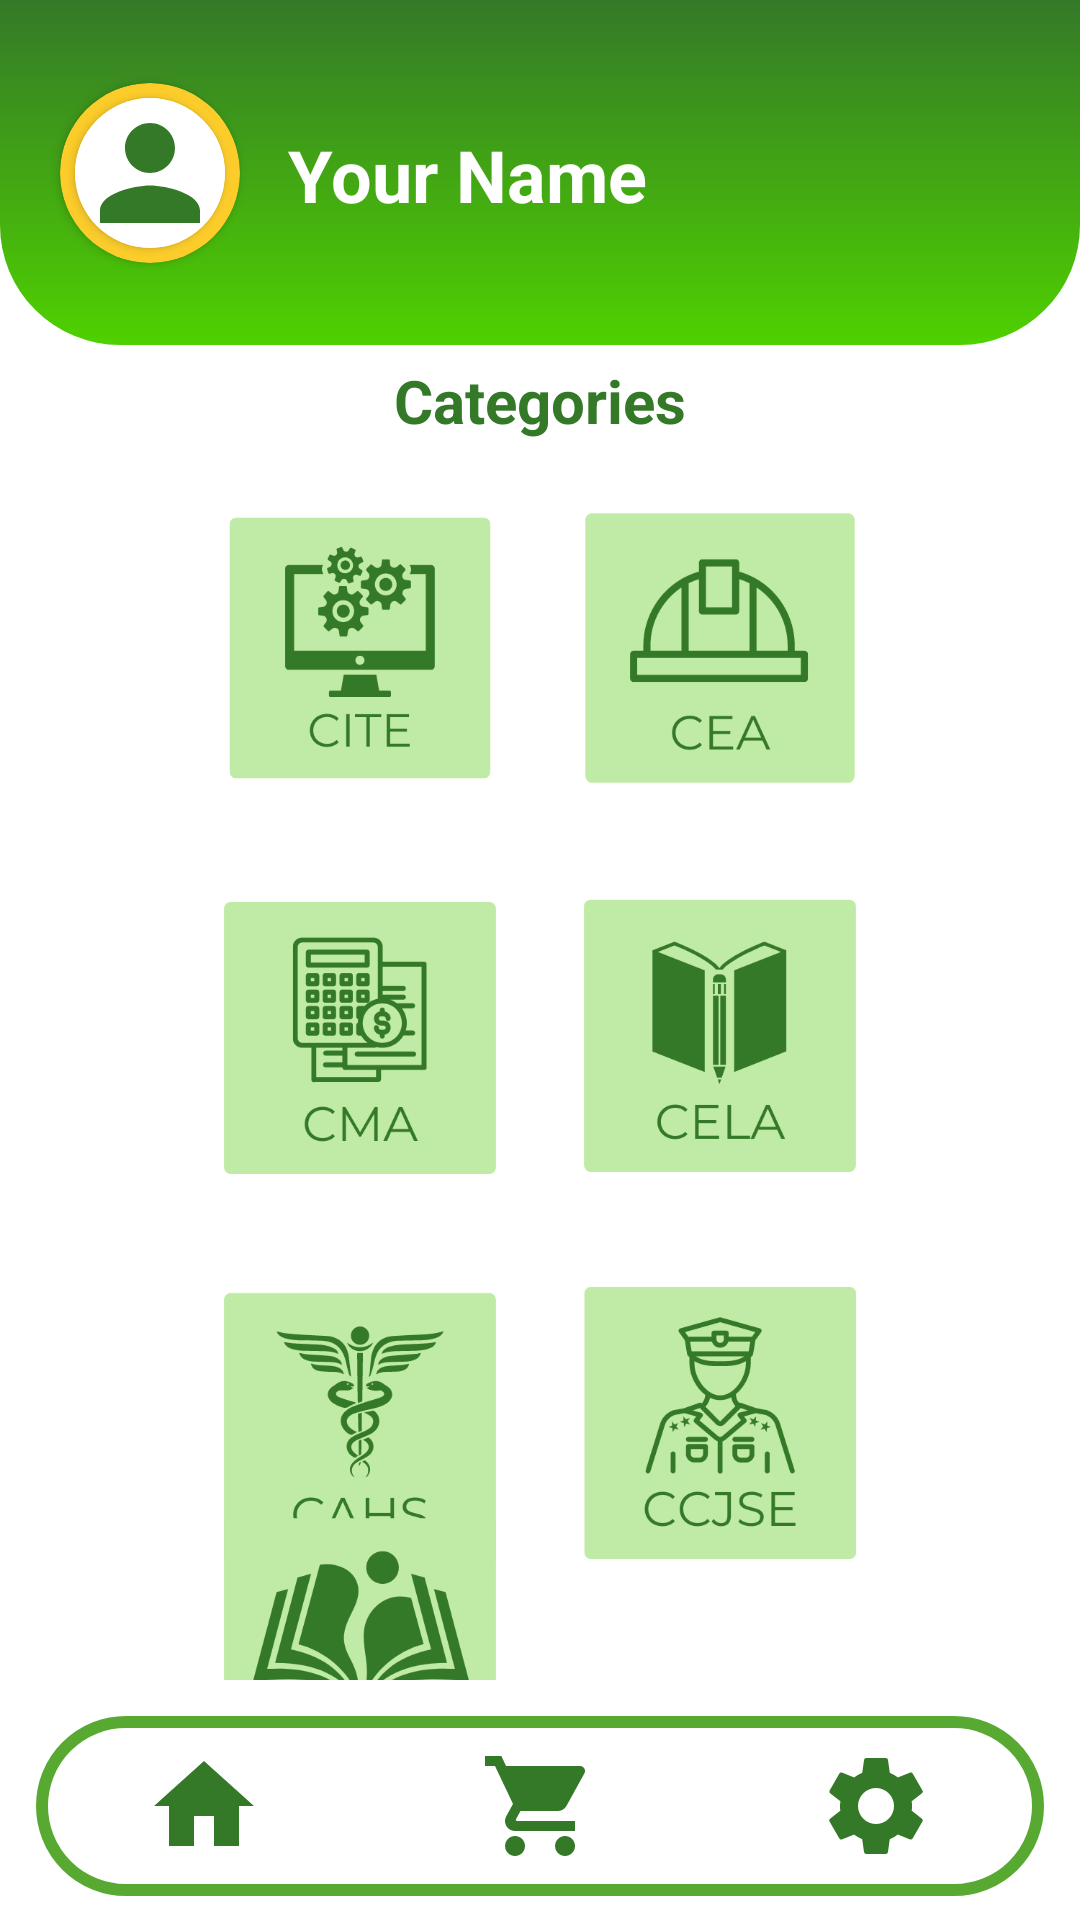

Named icons in this screenshot (1080 × 1920) and their centers, (x,y):
person: (150,173)
